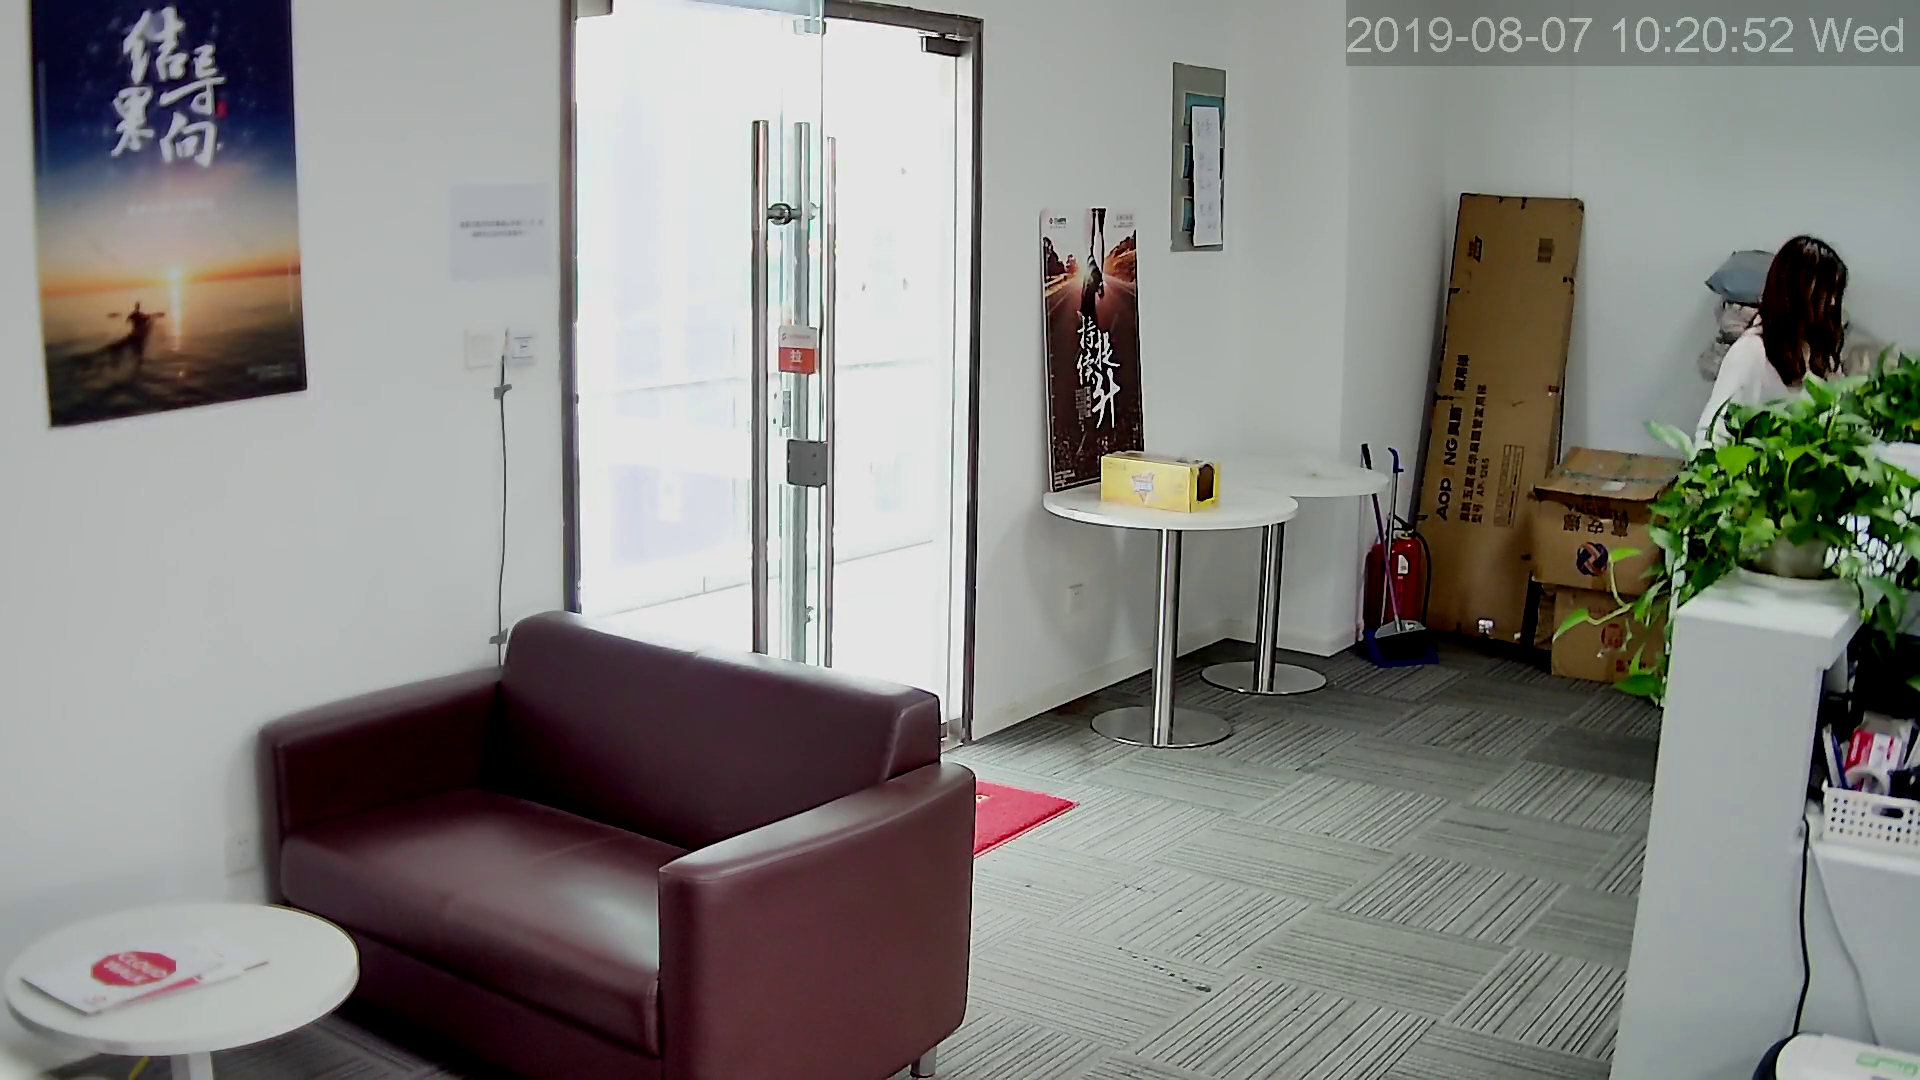bill: (22, 1, 302, 434), (1039, 210, 1149, 495)
